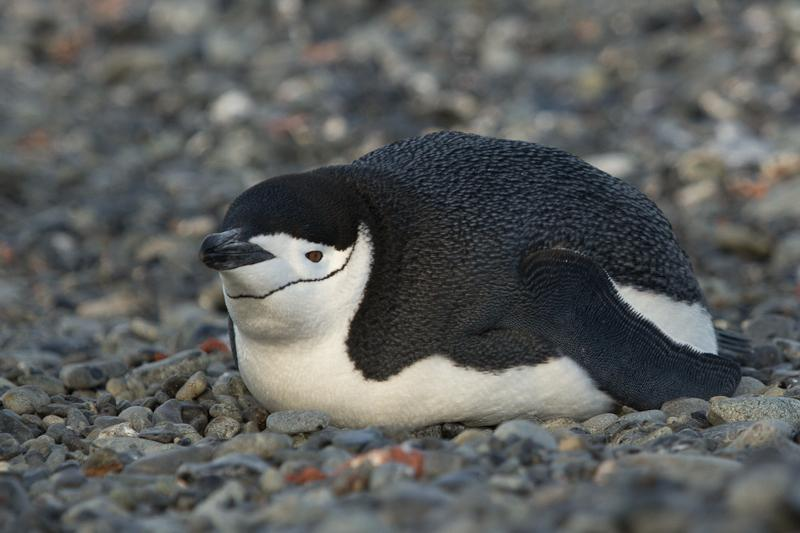chinstrap: (193, 119, 764, 430)
